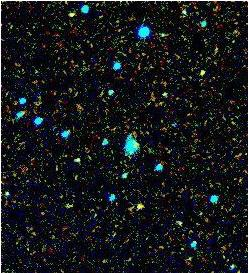star: (186, 58, 216, 88)
